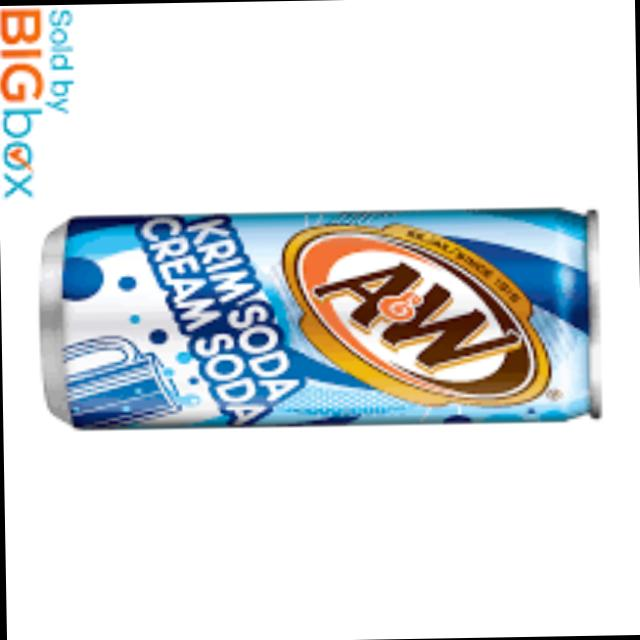metal: (46, 207, 600, 424)
